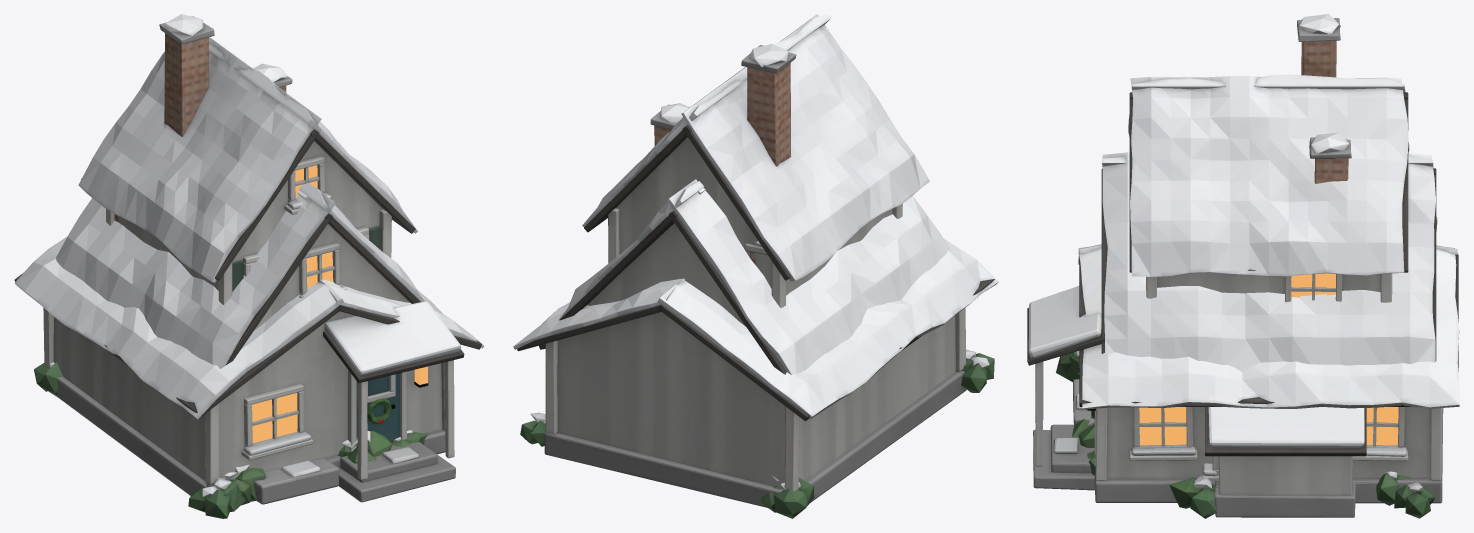
Rendered from houses.glb.
3 views of the same model, side by side, from view 1: azimuth 30°, elevation 25°; view 2: azimuth 150°, elevation 25°; view 3: azimuth 270°, elevation 25° (orthographic). The views are drawn at different scales.
Visible parts, largest first — view 1: Cabin_Body, Townhouse_Body, Cottage_Body, Cabin_Walls, Townhouse_Walls, Cottage_Walls, Cabin_Glow, Cottage_Glow; view 2: Townhouse_Body, Cabin_Walls, Cabin_Body, Cottage_Body, Townhouse_Walls, Cottage_Walls; view 3: Townhouse_Body, Cabin_Body, Cottage_Body, Aframe_Body, Cabin_Walls, Aframe_Walls, Townhouse_Walls, Cabin_Glow, Townhouse_Glow.
Boxes of the visible parts, x1,y1,x2,y2 form: Cabin_Body: (14, 214, 483, 518); Townhouse_Body: (78, 14, 417, 304); Cottage_Body: (34, 63, 428, 505); Cabin_Walls: (53, 311, 442, 481); Townhouse_Walls: (118, 141, 382, 290); Cottage_Walls: (254, 224, 409, 330); Cabin_Glow: (252, 366, 427, 443); Cottage_Glow: (306, 251, 333, 288); Townhouse_Body: (582, 14, 929, 308); Cabin_Walls: (557, 312, 955, 489); Cabin_Body: (513, 238, 998, 509); Cottage_Body: (558, 103, 949, 518); Townhouse_Walls: (616, 137, 892, 295); Cottage_Walls: (587, 223, 745, 326); Townhouse_Body: (1128, 14, 1409, 302); Cabin_Body: (1027, 244, 1459, 518); Cottage_Body: (1072, 132, 1437, 505); Aframe_Body: (1202, 407, 1366, 517); Cabin_Walls: (1107, 407, 1430, 479); Aframe_Walls: (1218, 456, 1352, 495); Townhouse_Walls: (1157, 273, 1380, 293); Cabin_Glow: (1139, 407, 1398, 445); Townhouse_Glow: (1291, 273, 1335, 297).
Bounding box in the file's own units: 3.33 × 4.04 × 3.88.
Materials: 3 (2 with a texture image).
